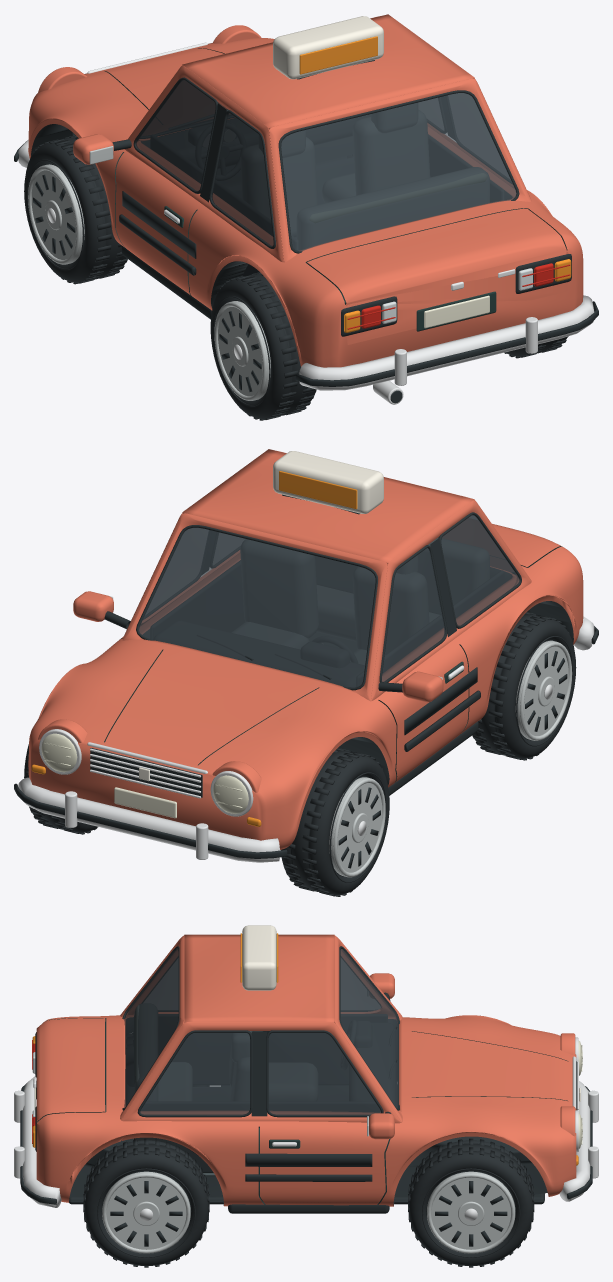
Rendered from taxi.fbx.
3 renders of one model, top to bottom at view 1: azimuth 30°, elevation 25°; view 2: azimuth 150°, elevation 25°; view 3: azimuth 270°, elevation 25°, orthographic. The views are drawn at different scales.
Parts seen in each view (by area): view 1: Body, Wheel_RL_Mesh, Wheel_FL_Mesh; view 2: Body, Wheel_FL_Mesh, Wheel_RL_Mesh, Wheel_FR_Mesh; view 3: Body, Wheel_FR_Mesh, Wheel_RR_Mesh.
Boxes of the visible parts, x1,y1,x2,y2 form: Body: (14, 14, 598, 404); Wheel_RL_Mesh: (210, 272, 316, 420); Wheel_FL_Mesh: (24, 135, 127, 284); Body: (14, 449, 598, 862); Wheel_FL_Mesh: (281, 748, 389, 896); Wheel_RL_Mesh: (472, 612, 576, 760); Wheel_FR_Mesh: (24, 744, 97, 834); Body: (14, 925, 598, 1213); Wheel_FR_Mesh: (408, 1138, 534, 1267); Wheel_RR_Mesh: (83, 1138, 209, 1267).
Size of the model in its own units: 231 by 185 by 373.
